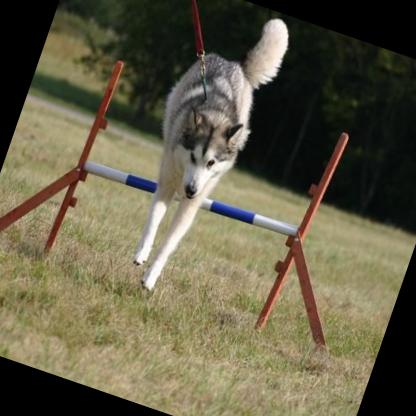malamute: (105, 0, 296, 308)
